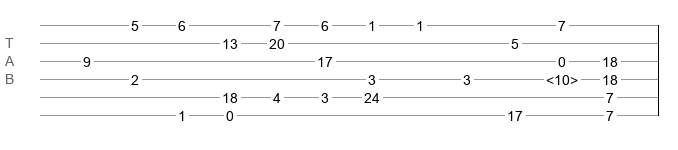0: (226, 108, 234, 118), (558, 54, 566, 64)
1: (178, 108, 186, 118), (368, 18, 376, 28), (416, 18, 424, 28)
13: (222, 36, 238, 46)
17: (317, 54, 333, 64), (507, 108, 523, 118)
18: (222, 90, 238, 100), (602, 54, 618, 64), (602, 72, 618, 82)
2: (131, 72, 139, 82)
20: (269, 36, 285, 46)
24: (364, 90, 380, 100)
3: (321, 90, 329, 100), (368, 72, 376, 82), (463, 72, 471, 82)
4: (273, 90, 281, 100)
5: (131, 18, 139, 28), (511, 36, 519, 46)
6: (178, 18, 186, 28), (321, 18, 329, 28)
7: (273, 18, 281, 28), (558, 18, 566, 28), (606, 108, 614, 118), (606, 90, 614, 100)
9: (83, 54, 91, 64)
harmonic: (546, 72, 578, 82)
